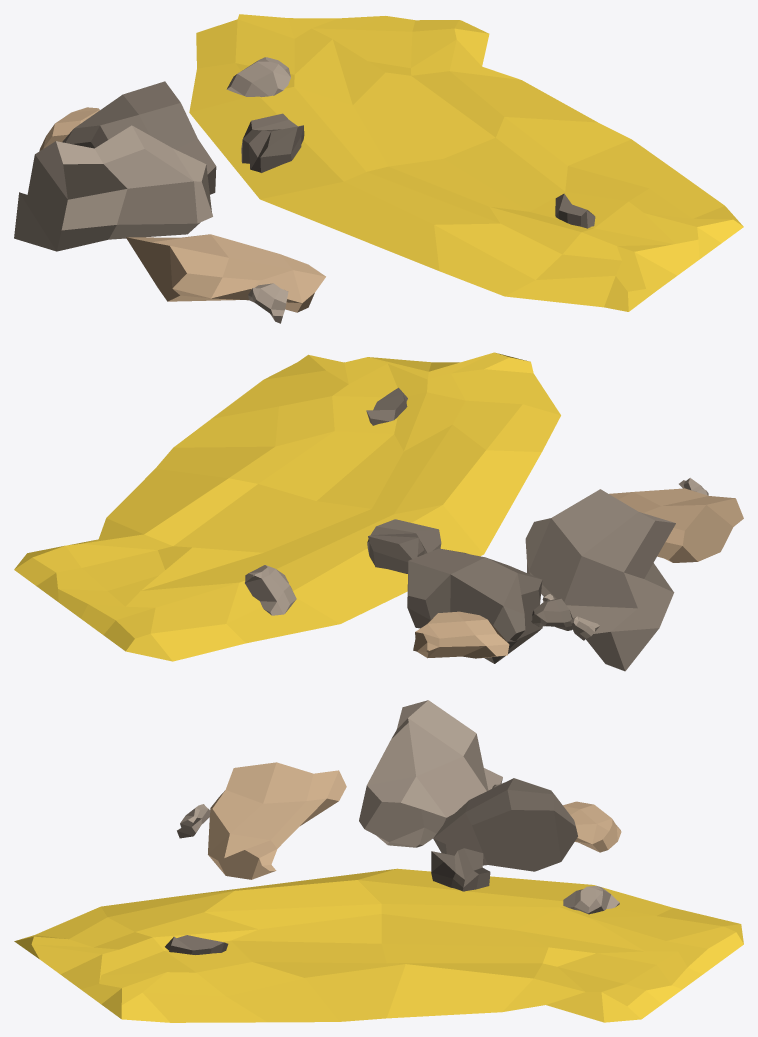
The model's file is street4_02_3.fbx.
3 renders of one model, top to bottom at view 1: azimuth 30°, elevation 25°; view 2: azimuth 150°, elevation 25°; view 3: azimuth 270°, elevation 25°, orthographic. The views are drawn at different scales.
Visible parts, largest first — view 1: sandWay02x01.001, stones.006, stones.033, stones, stonii, stones.001, stones.005, stones.003, stones.007; view 2: sandWay02x01.001, stones.006, stones, stones.033, stones.003, stonii, stones.001, stones.002, stones.007; view 3: sandWay02x01.001, stones.006, stones.033, stones, stonii, stones.003, stones.001, stones.007, stones.005.
Part boxes in pixels (box(x1,y1,x2,y2)): sandWay02x01.001: box(189, 14, 743, 311); stones.006: box(14, 125, 212, 251); stones.033: box(126, 234, 325, 312); stones: box(62, 81, 216, 194); stonii: box(241, 113, 304, 172); stones.001: box(226, 57, 290, 97); stones.005: box(248, 283, 288, 323); stones.003: box(39, 107, 99, 151); stones.007: box(555, 193, 595, 228); sandWay02x01.001: box(14, 352, 560, 661); stones.006: box(525, 489, 675, 671); stones: box(407, 548, 542, 663); stones.033: box(609, 488, 743, 562); stones.003: box(413, 611, 509, 658); stonii: box(367, 519, 441, 573); stones.001: box(245, 565, 296, 615); stones.002: box(531, 598, 572, 630); stones.007: box(366, 387, 407, 425); sandWay02x01.001: box(14, 868, 743, 1022); stones.006: box(359, 700, 502, 847); stones.033: box(208, 762, 346, 879); stones: box(433, 778, 577, 871); stonii: box(431, 848, 490, 891); stones.003: box(563, 801, 621, 852); stones.001: box(563, 886, 619, 914); stones.007: box(165, 935, 228, 954); stones.005: box(177, 804, 210, 838).
Size of the model in its own units: 77.89 by 21.19 by 99.55.
